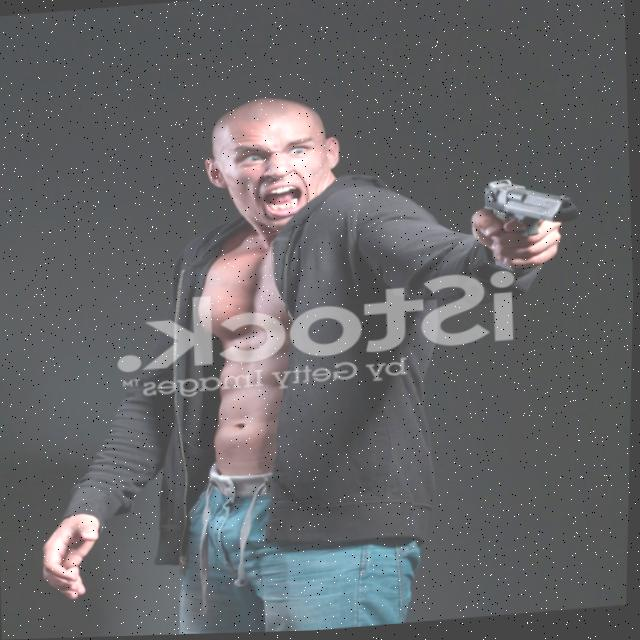pistol: (481, 177, 586, 278)
